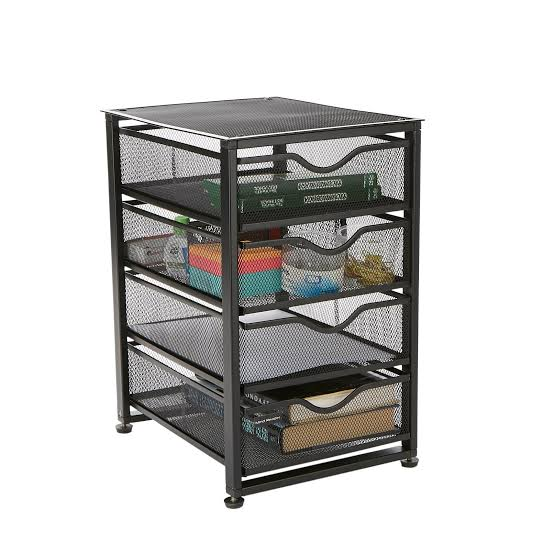Carts: (98, 96, 425, 510)
